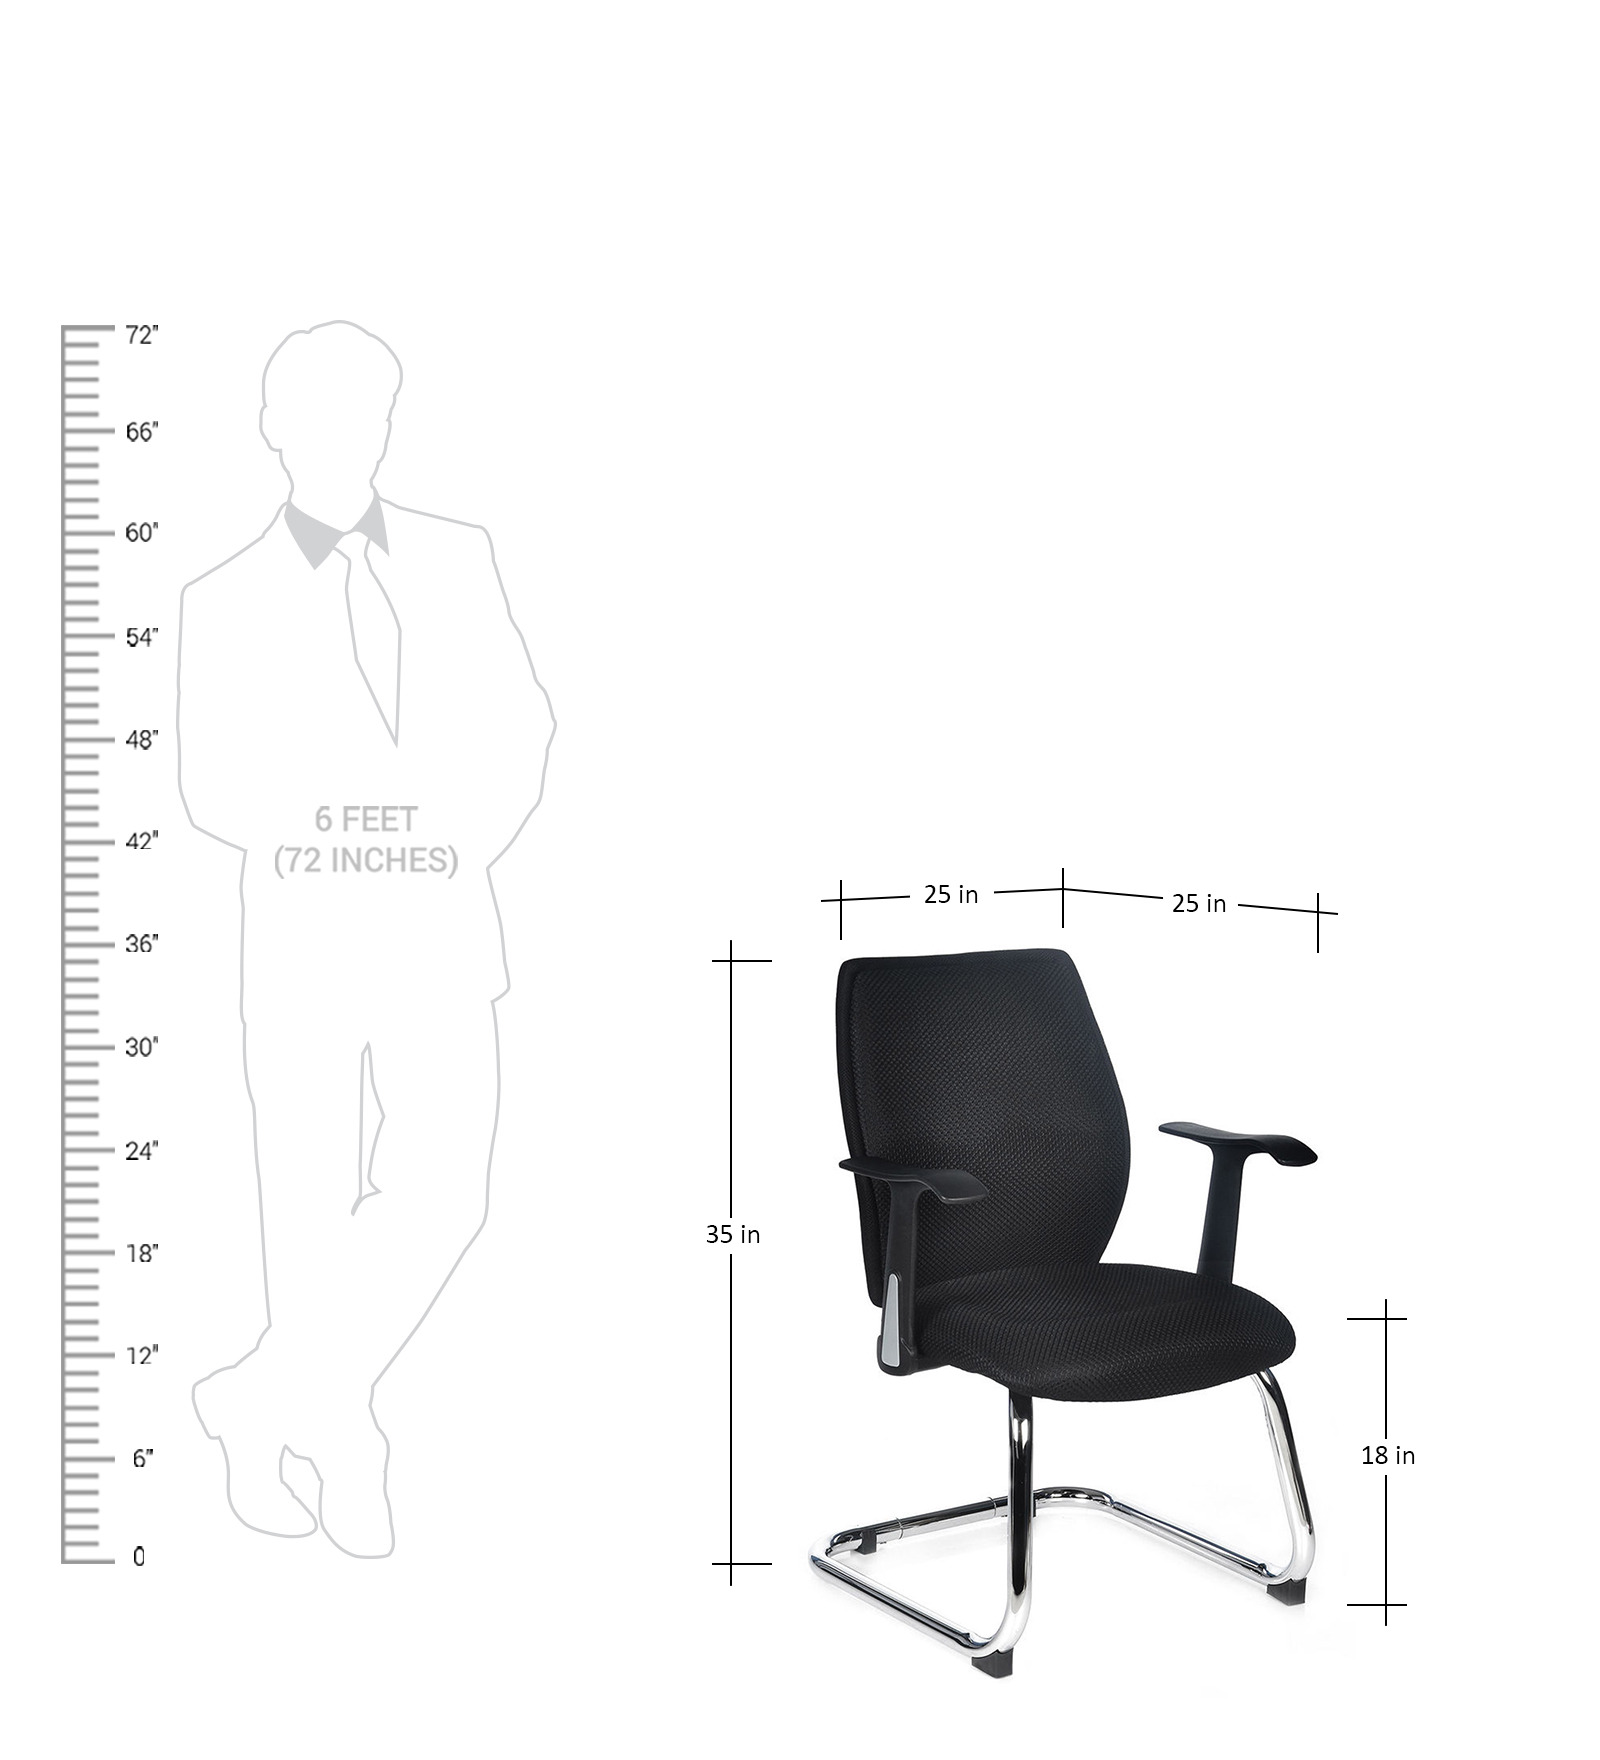Blaze Chair in Black Colour by Nilkamal: (803, 951, 1349, 1702)
